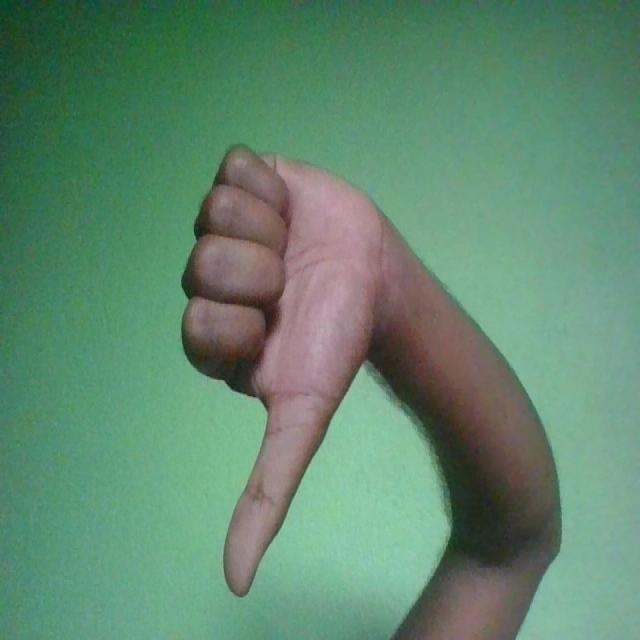Dislike: (182, 143, 389, 596)
